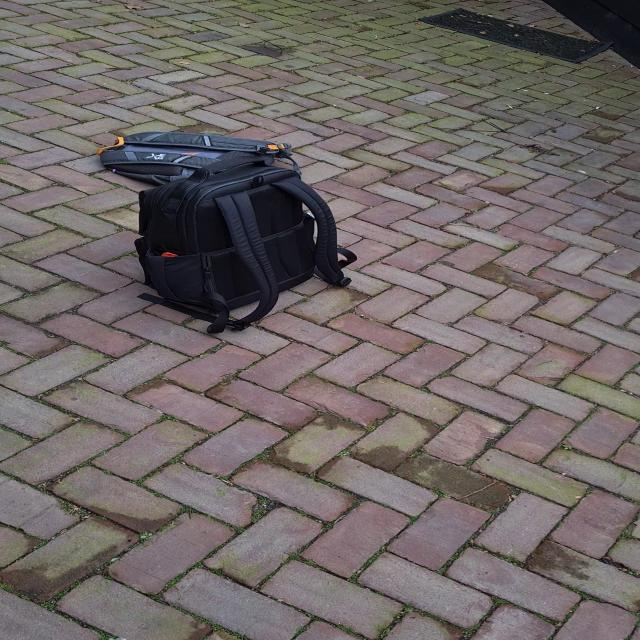backpack: (114, 132, 346, 332), (90, 129, 305, 187)
